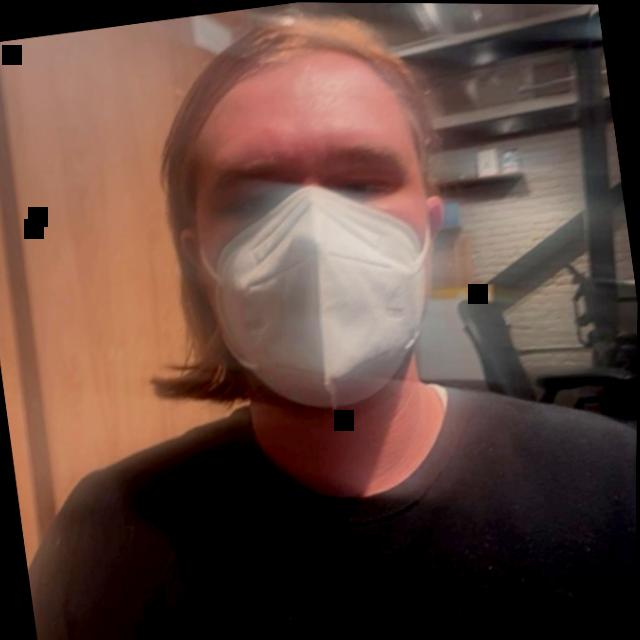Mask: (105, 1, 496, 427)
